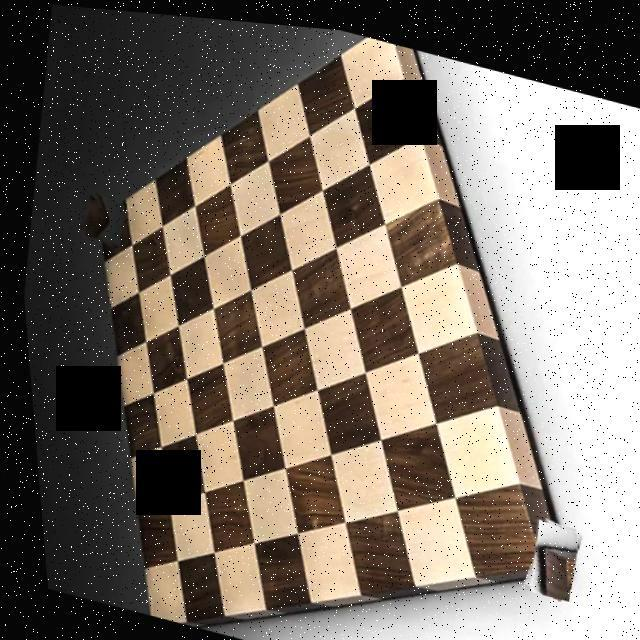chess-table-corners: (512, 505, 576, 592), (75, 190, 126, 244)
